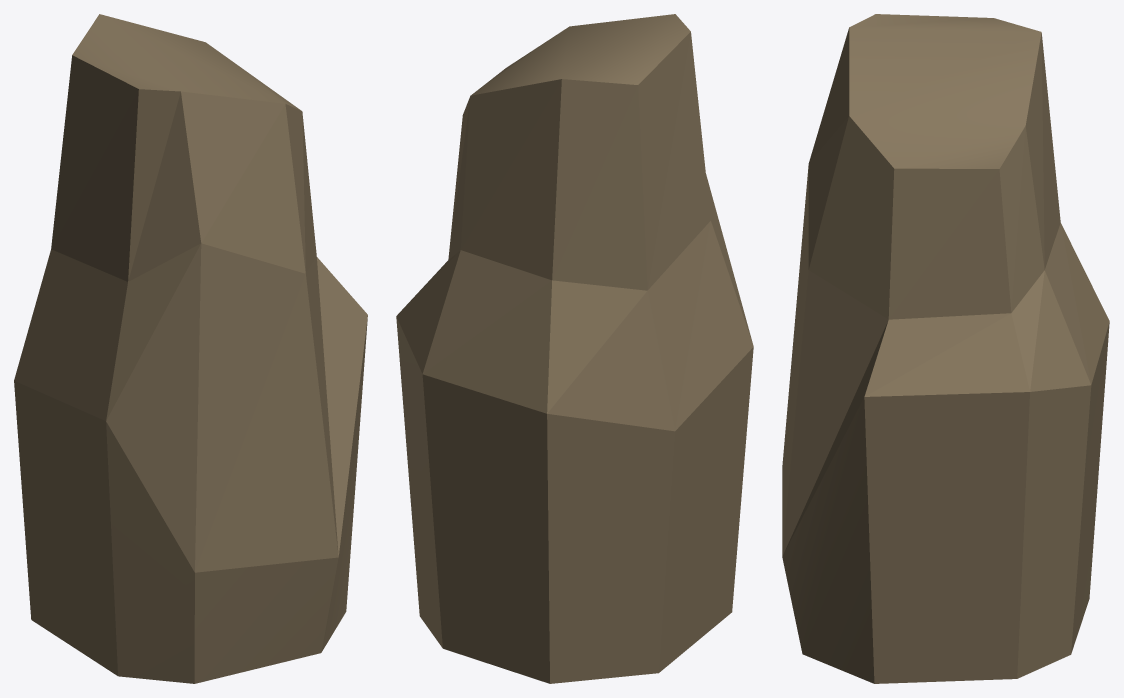
Rendered from TB_D_Env_RockA_C.FBX.
3 renders of one model, left to right at view 1: azimuth 30°, elevation 25°; view 2: azimuth 150°, elevation 25°; view 3: azimuth 270°, elevation 25°, orthographic.
Parts seen in each view (by area): view 1: TB_D_Env_RockA_C; view 2: TB_D_Env_RockA_C; view 3: TB_D_Env_RockA_C.
Boxes of the visible parts, bbox=[...] form: TB_D_Env_RockA_C: bbox=[14, 14, 367, 683]; TB_D_Env_RockA_C: bbox=[396, 14, 753, 683]; TB_D_Env_RockA_C: bbox=[782, 14, 1109, 683].
Bounding box in the file's own units: 1.07 × 2.12 × 1.1.
